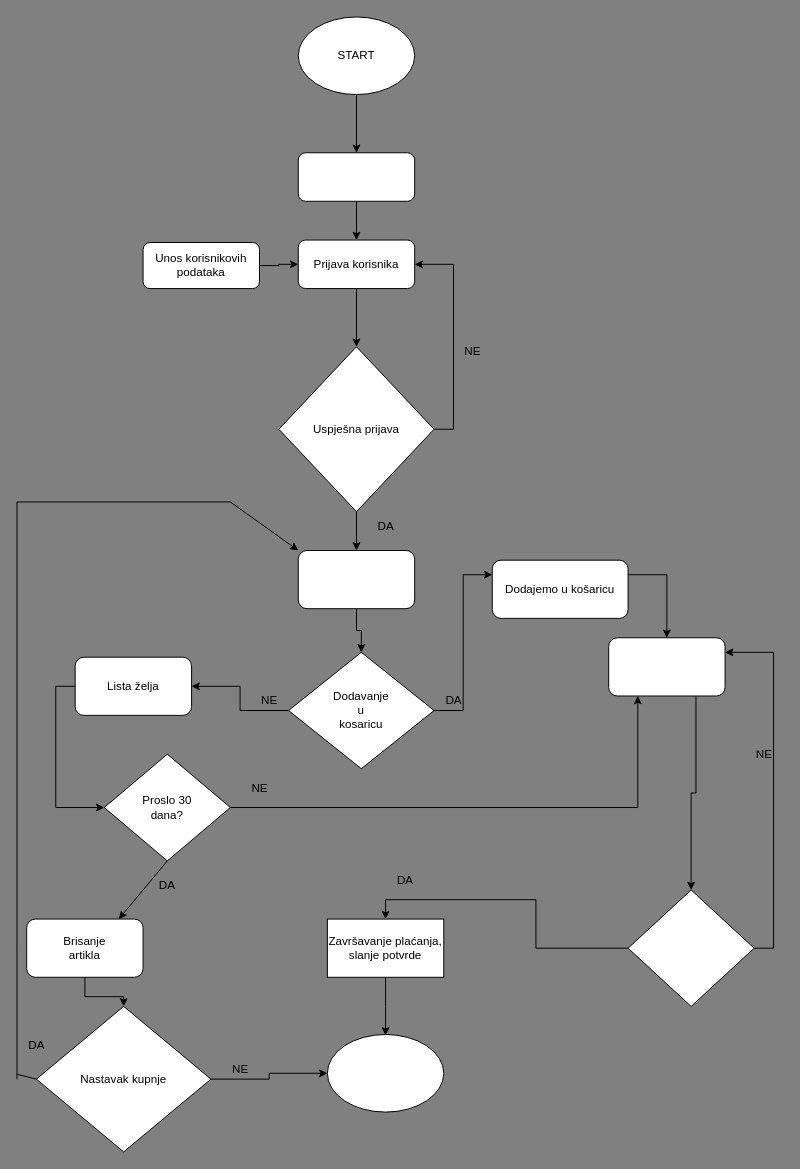
Image size: 800x1169. Some labels were removed from this diagram. Each missing label, with the centre of its shape:
Ispravni podaci: [690,947]
KRAJ: [385,1073]
Odabir artikla: [356,579]
Pregled artikla: [356,176]
Unos Podataka: [666,666]
